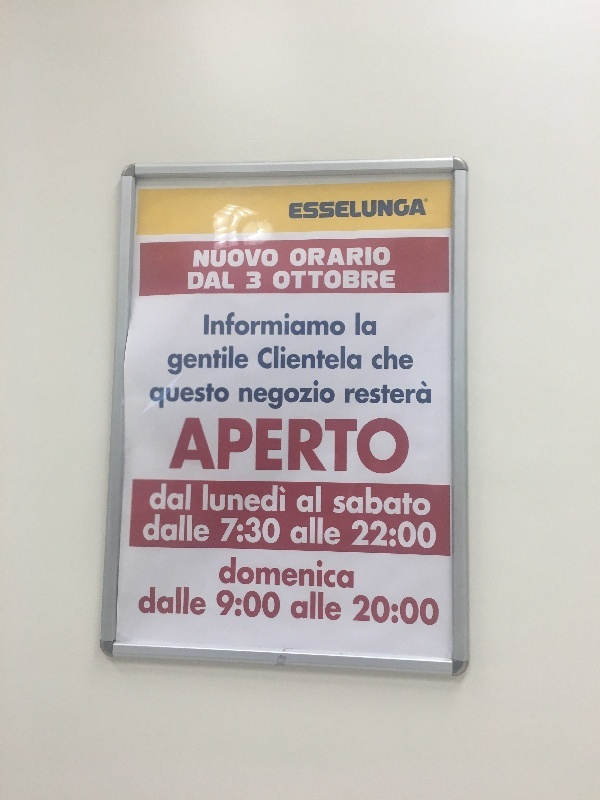text: (193, 416, 208, 475), (209, 416, 224, 475), (225, 416, 240, 475), (241, 416, 256, 475), (257, 416, 272, 475), (273, 416, 288, 475), (289, 416, 304, 475), (305, 416, 320, 475), (321, 416, 336, 475), (337, 416, 352, 475), (353, 416, 368, 475), (369, 416, 384, 475), (385, 416, 400, 475), (401, 416, 410, 475), (225, 556, 240, 589), (241, 556, 256, 589), (257, 556, 272, 589), (273, 556, 288, 589), (289, 556, 304, 589), (305, 556, 320, 589), (321, 556, 336, 589), (337, 556, 352, 589), (177, 345, 192, 376), (193, 345, 208, 376), (209, 345, 224, 376), (225, 345, 240, 376), (241, 379, 256, 410), (257, 379, 272, 410), (273, 379, 288, 410), (289, 379, 304, 410), (305, 379, 320, 410), (353, 519, 368, 550), (369, 519, 384, 550), (385, 519, 400, 550), (401, 519, 416, 550), (417, 519, 432, 550), (353, 595, 368, 626), (369, 595, 384, 626), (385, 595, 400, 626), (401, 595, 416, 626), (417, 595, 432, 626), (145, 585, 160, 616), (161, 585, 176, 616), (177, 585, 192, 616), (145, 513, 160, 543), (161, 513, 176, 543), (177, 513, 192, 543), (193, 513, 208, 543), (209, 483, 224, 513), (225, 483, 240, 513), (241, 483, 256, 513), (257, 483, 272, 513), (225, 590, 240, 620), (241, 590, 256, 620), (257, 590, 272, 620), (305, 517, 320, 547), (321, 517, 336, 547), (337, 487, 352, 517), (353, 487, 368, 517), (369, 487, 384, 517), (385, 487, 400, 517), (401, 487, 416, 517), (305, 485, 320, 514), (305, 592, 320, 621), (321, 592, 336, 621), (321, 379, 335, 410), (193, 585, 207, 616), (225, 517, 240, 545), (241, 517, 256, 545), (257, 517, 272, 545), (417, 487, 431, 517), (209, 310, 224, 337), (225, 310, 240, 337), (241, 310, 256, 337), (257, 310, 272, 337), (273, 310, 288, 337), (289, 310, 304, 337), (305, 310, 320, 337), (321, 310, 336, 337), (161, 483, 176, 510), (177, 483, 192, 510), (161, 383, 176, 409), (177, 383, 192, 409), (193, 383, 208, 409), (209, 383, 224, 409), (353, 379, 368, 405), (369, 379, 384, 405), (385, 379, 400, 405), (401, 379, 416, 405), (417, 379, 432, 405), (291, 592, 304, 621), (273, 346, 288, 371), (289, 346, 304, 371), (305, 346, 320, 371), (321, 346, 336, 371), (337, 346, 352, 371), (385, 345, 400, 370), (273, 483, 285, 513), (292, 517, 304, 547), (186, 416, 192, 475), (258, 346, 272, 371), (305, 198, 320, 220), (321, 198, 336, 220), (337, 198, 352, 220), (353, 198, 368, 220), (369, 198, 384, 220), (385, 198, 400, 220), (401, 198, 416, 220), (305, 246, 320, 267), (321, 246, 336, 267), (337, 246, 352, 267), (353, 246, 368, 267), (369, 246, 384, 267), (290, 198, 304, 220), (209, 249, 224, 269), (225, 249, 240, 269), (241, 249, 256, 269), (257, 249, 272, 269), (289, 270, 304, 290), (305, 270, 320, 290), (321, 270, 336, 290), (337, 270, 352, 290), (353, 270, 368, 290), (369, 270, 384, 290), (372, 345, 384, 370), (401, 345, 413, 370), (290, 246, 304, 267), (356, 313, 368, 337), (193, 272, 208, 291), (209, 272, 224, 291), (274, 270, 288, 290), (195, 249, 208, 269), (150, 383, 160, 409), (168, 345, 176, 376), (241, 345, 249, 376), (337, 310, 346, 337), (273, 590, 281, 620), (353, 346, 362, 371), (433, 595, 440, 626), (152, 483, 160, 510), (385, 270, 395, 290), (417, 198, 426, 220), (273, 517, 280, 545), (369, 313, 377, 337), (225, 272, 235, 291), (345, 379, 352, 405), (218, 590, 224, 620), (298, 485, 304, 514), (247, 271, 256, 290), (203, 483, 208, 513), (337, 592, 342, 621), (433, 519, 437, 550), (140, 585, 144, 616), (273, 249, 279, 269), (337, 517, 341, 547), (204, 310, 208, 337), (385, 246, 390, 267), (225, 383, 229, 409), (221, 556, 224, 589), (188, 272, 192, 291), (257, 271, 261, 290), (222, 517, 224, 545), (353, 556, 354, 589), (239, 379, 240, 410), (209, 513, 210, 543), (335, 487, 336, 517), (321, 485, 322, 514), (426, 199, 432, 202)
